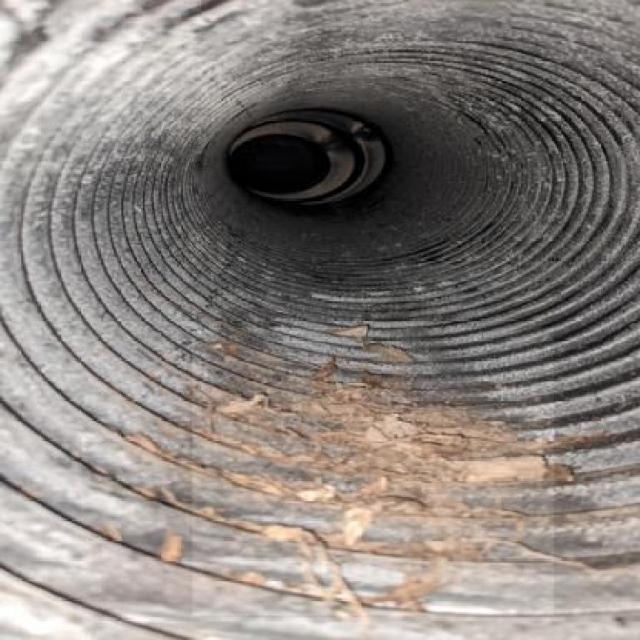dirt: (293, 377, 518, 596)
